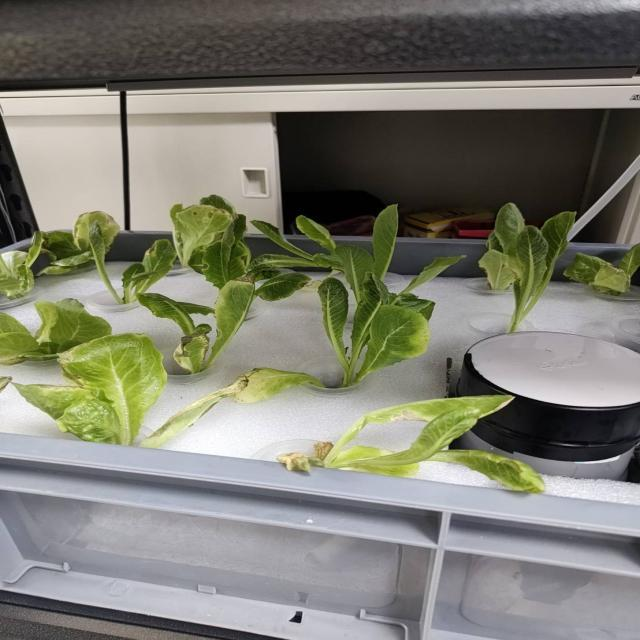Lettuce-Not-Ready-to-Harvest: (13, 334, 245, 448), (280, 395, 545, 492), (318, 274, 433, 386), (138, 276, 255, 373), (190, 215, 310, 301), (508, 211, 575, 331), (0, 299, 112, 365), (88, 222, 177, 304), (333, 205, 398, 303), (40, 211, 120, 274), (252, 215, 342, 271), (170, 195, 237, 268), (478, 202, 525, 290), (563, 244, 640, 295), (232, 368, 322, 402), (0, 231, 45, 299), (400, 256, 467, 294)
